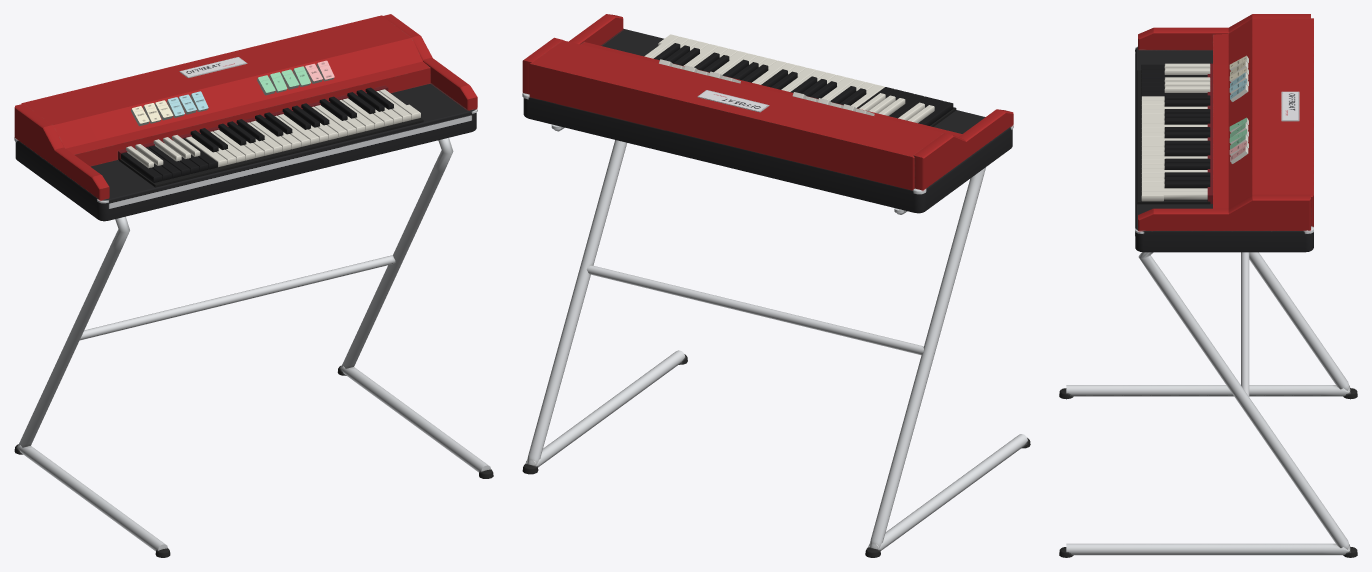
File: ska_organ.glb
3 views of the same model, side by side, from view 1: azimuth 30°, elevation 25°; view 2: azimuth 150°, elevation 25°; view 3: azimuth 270°, elevation 25° (orthographic). The views are drawn at different scales.
Visible parts, largest first — view 1: og_case, og_stand, og_tabs; view 2: og_case, og_stand, og_tabs; view 3: og_case, og_stand, og_tabs, og_key_48.
Boxes of the visible parts, x1,y1,x2,y2 form: og_case: (14,14,477,221); og_stand: (14,137,493,557); og_tabs: (131,60,334,126); og_case: (522,14,1013,213); og_stand: (522,124,1030,557); og_tabs: (659,59,874,115); og_case: (1135,14,1313,252); og_stand: (1059,252,1357,557); og_tabs: (1229,55,1248,163); og_key_48: (1141,191,1207,201).
Bounding box in the file's own units: 0.9628 × 0.8912 × 0.6512.
3 materials, 1 textured.
